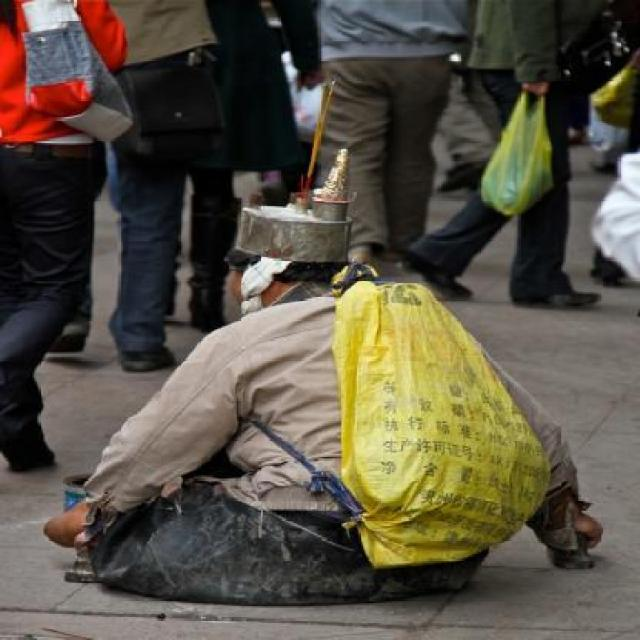plastic bag: (323, 263, 549, 569), (477, 88, 560, 212)
